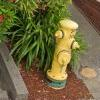a fire hydrant: (45, 19, 81, 81)
